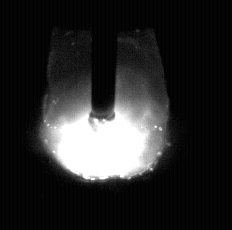arame: (91, 0, 117, 120)
poca: (39, 0, 166, 230)
